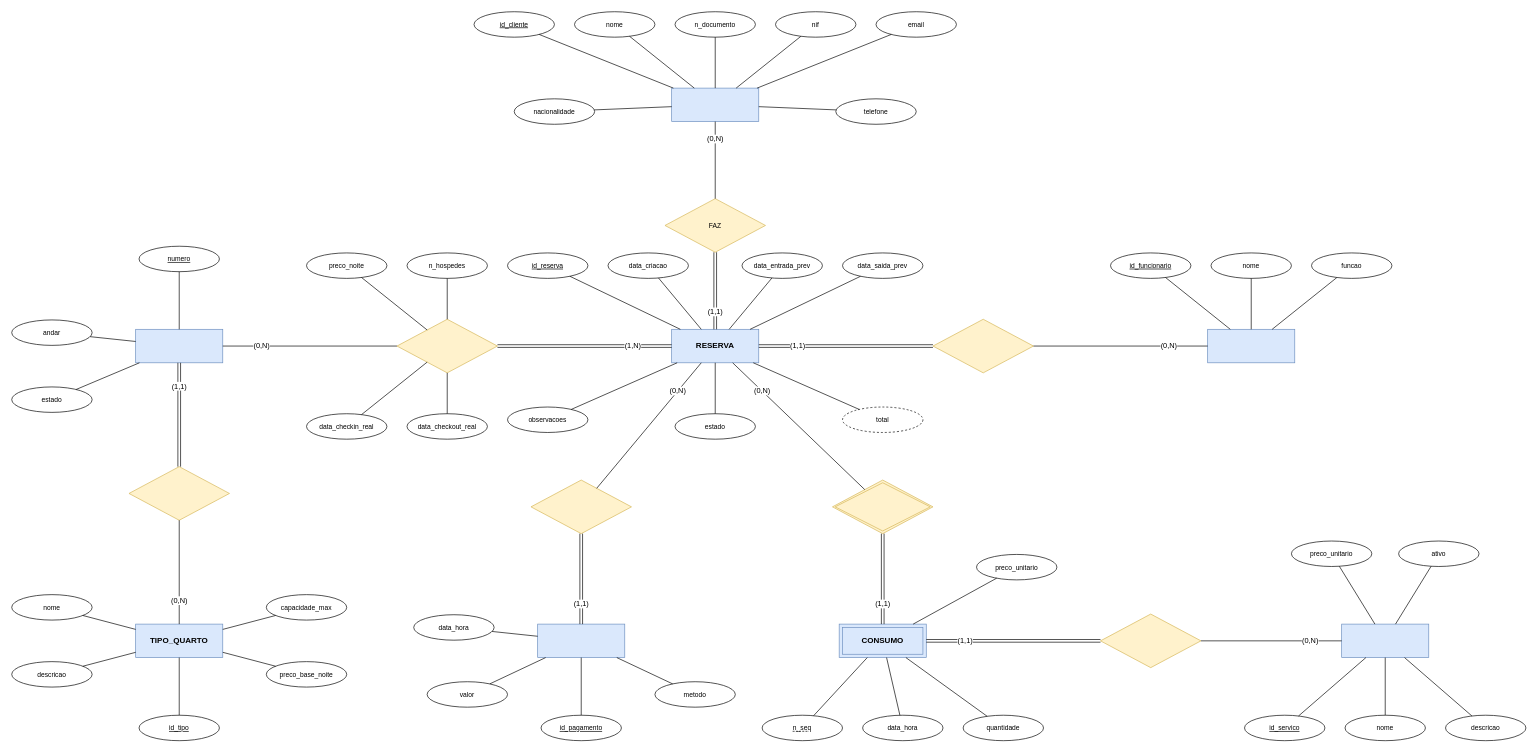
This 1538x752 diagram has some shape labels left out. Here are the shapes that lost their labels. From the top down, the centre of each, then its label:
the point at 715,104: CLIENTE
the point at 179,346: QUARTO
the point at 446,346: INCLUI
the point at 982,346: REGISTA
the point at 1251,346: FUNCIONARIO
the point at 178,493: CLASSIFICA
the point at 580,506: TEM_PAGAMENTO
the point at 882,506: TEM_CONSUMO
the point at 581,640: PAGAMENTO
the point at 1150,640: REFERE_SE_A
the point at 1385,640: SERVICO
